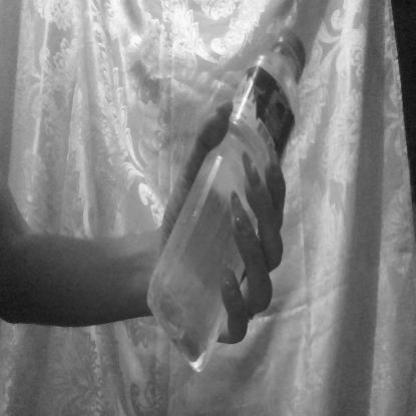Plastic Bottle: (156, 27, 308, 362)
